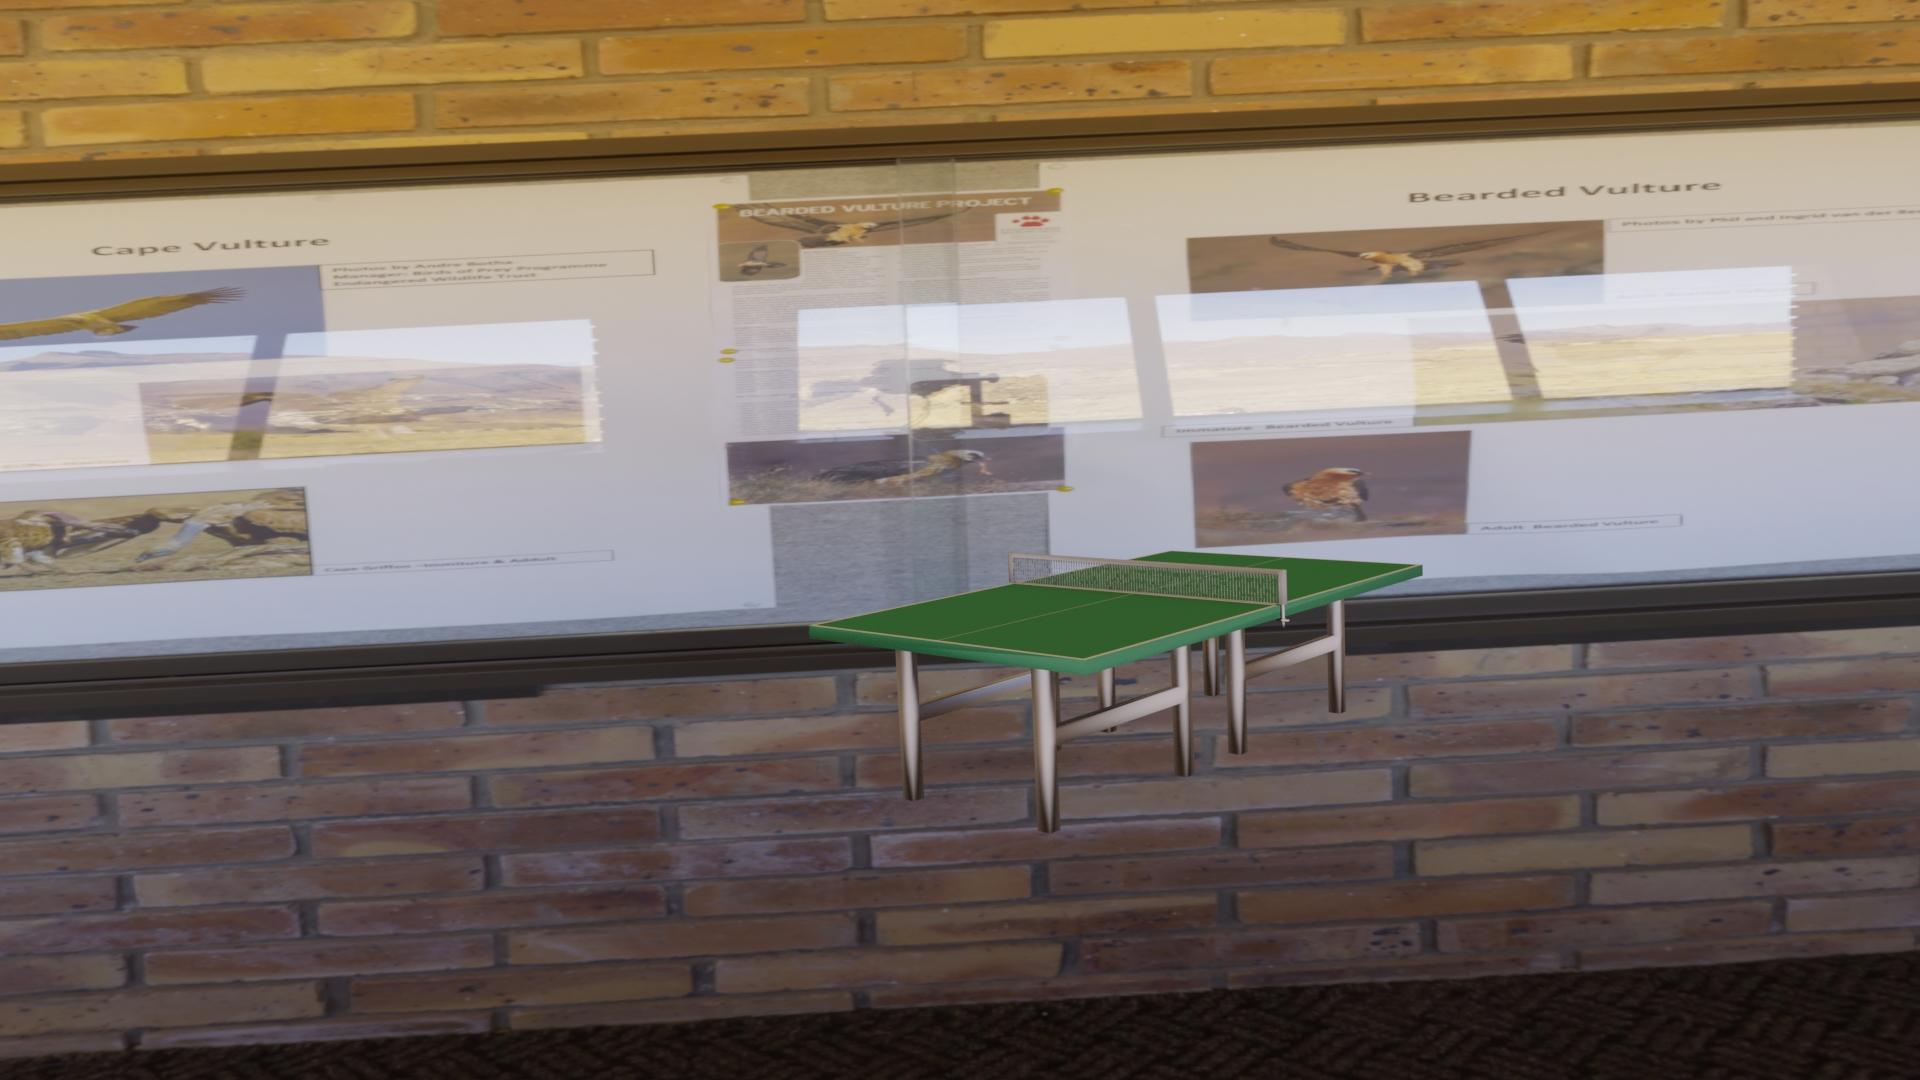table: (815, 551, 1417, 659)
